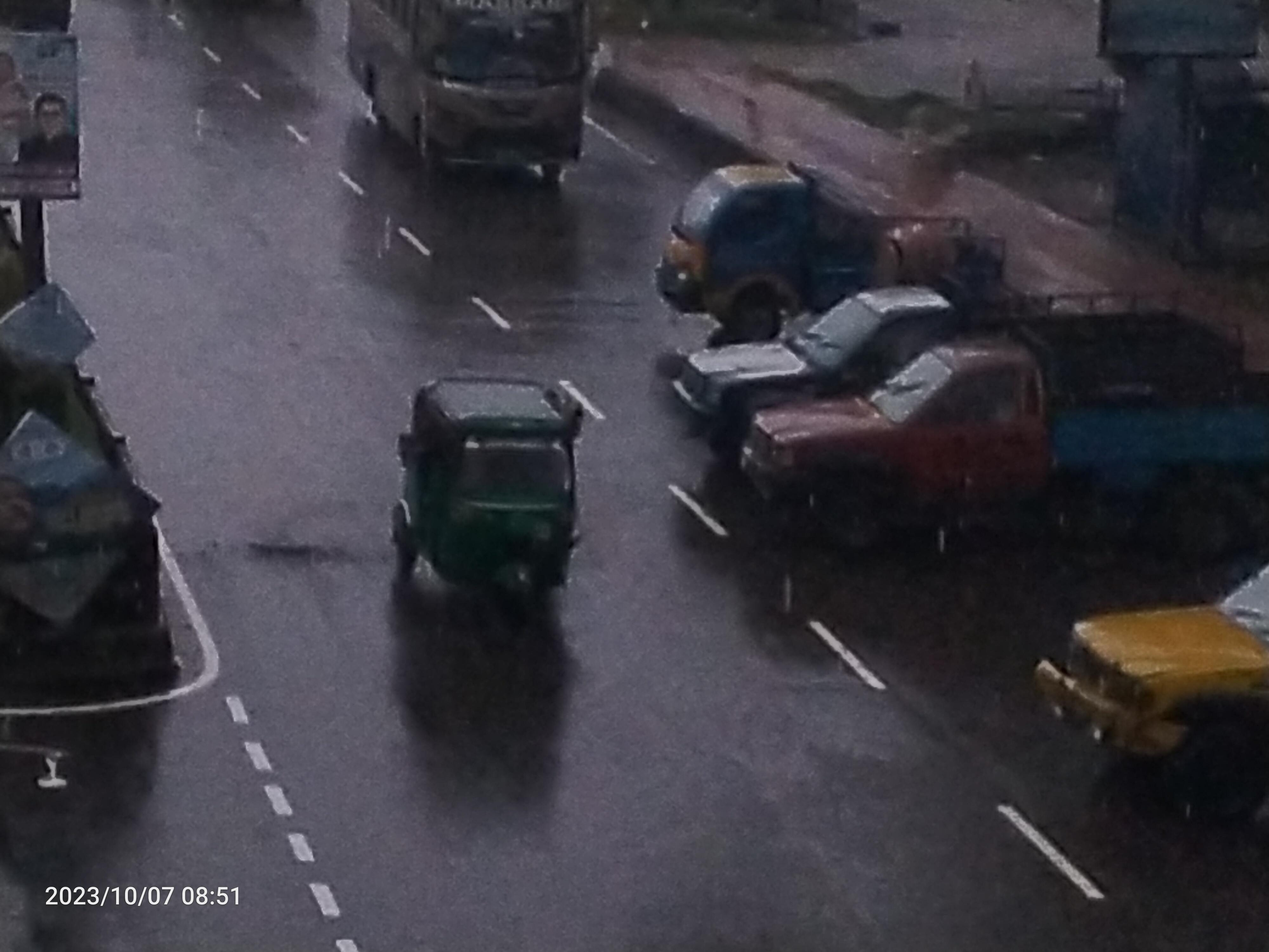Bus: (334, 0, 624, 202)
Truck: (728, 313, 1269, 563), (980, 447, 1269, 796), (639, 121, 1045, 367)
